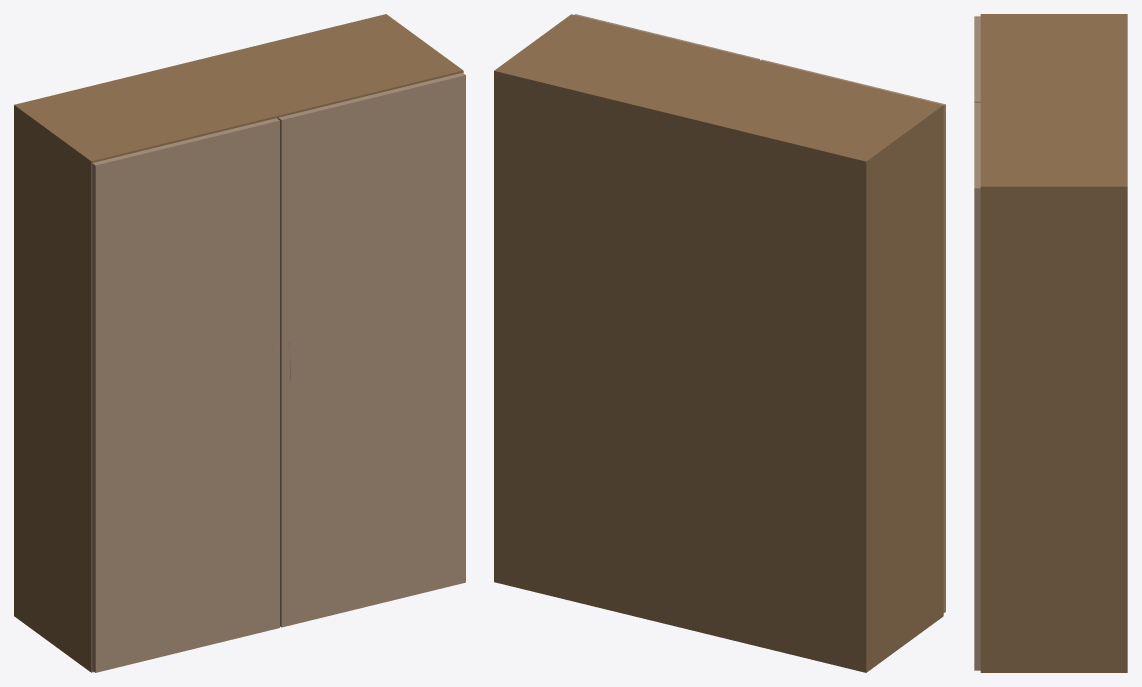
Rendered from BL-FJORD.glb.
3 views of the same model, side by side, from view 1: azimuth 30°, elevation 25°; view 2: azimuth 150°, elevation 25°; view 3: azimuth 270°, elevation 25° (orthographic). The views are drawn at different scales.
Visible parts, largest first — view 1: Door (×2), Cabinet; view 2: Cabinet, Door; view 3: Cabinet, Door (×2).
Part boxes in pixels (x1,y1,x2,y2): Door (×2): (92,72,465,672); Cabinet: (14,14,463,672); Cabinet: (494,14,943,672); Door: (760,59,945,612); Cabinet: (980,14,1127,672); Door (×2): (974,16,980,670).
Bounding box in the file's own units: 1.6 × 2.1 × 0.6.
